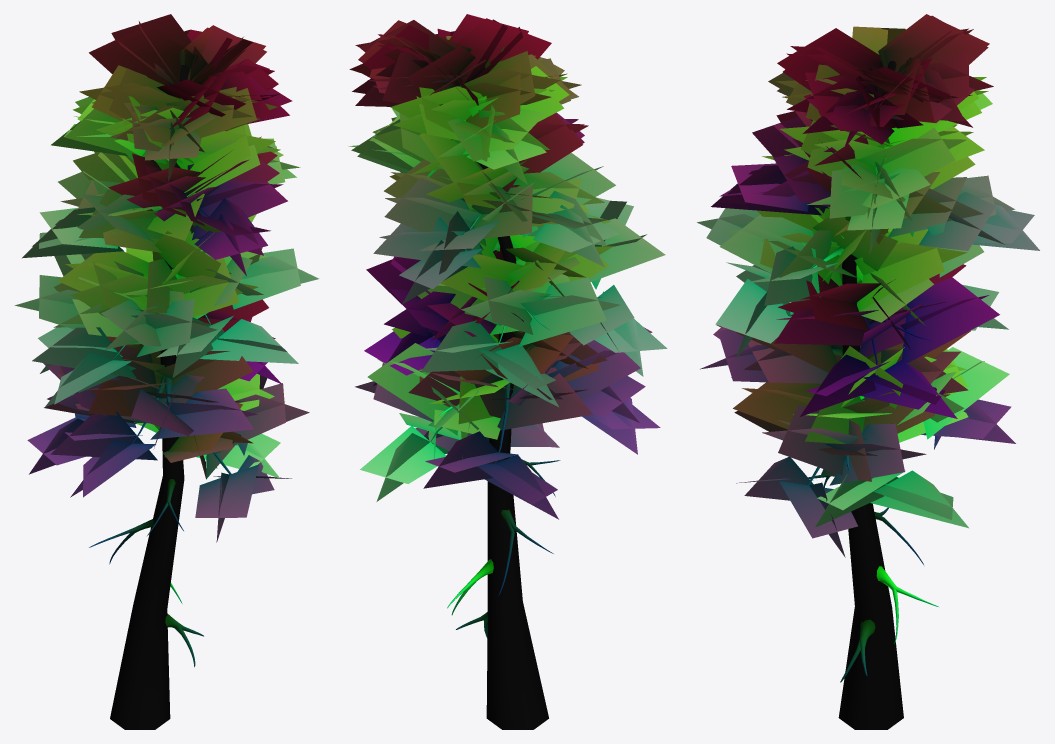
The model's file is M_Pine_1_7.fbx.
The picture shows the model from 3 angles, left to right: view 1: azimuth 30°, elevation 25°; view 2: azimuth 150°, elevation 25°; view 3: azimuth 270°, elevation 25°; orthographic projection. The views are drawn at different scales.
Parts seen in each view (by area): view 1: Tree_7; view 2: Tree_7; view 3: Tree_7.
Part boxes in pixels (bbox=[...]): Tree_7: bbox=[14, 14, 319, 729]; Tree_7: bbox=[348, 14, 667, 729]; Tree_7: bbox=[697, 14, 1039, 729].
Size of the model in its own units: 1201 by 2802 by 1219.
